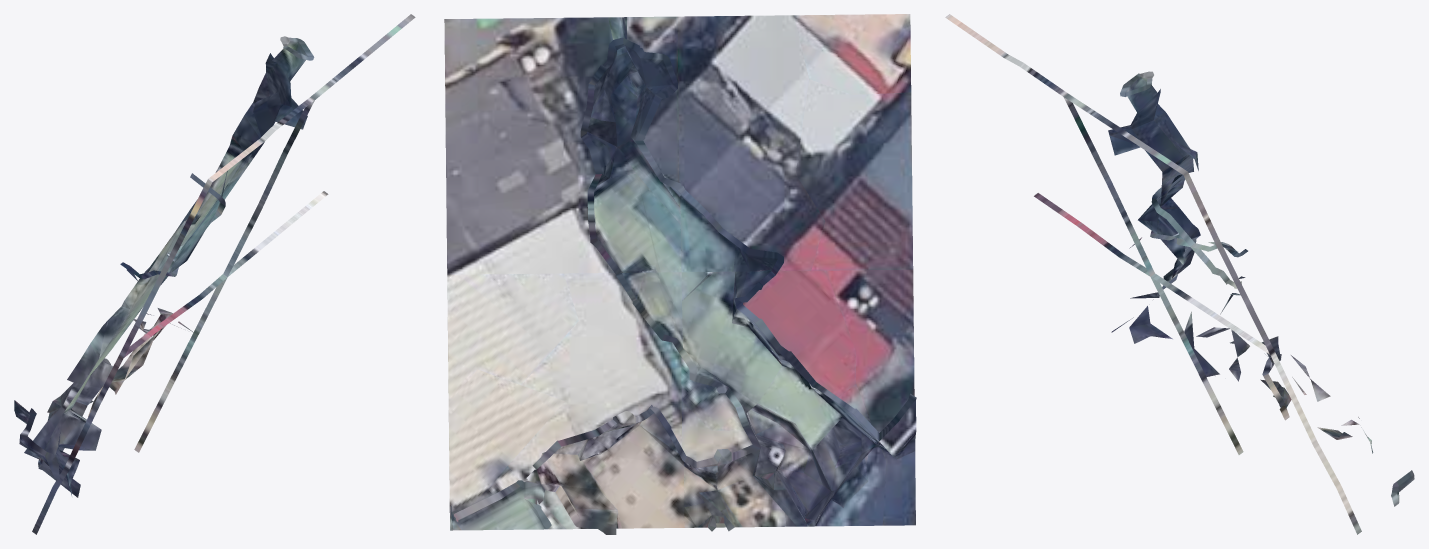
The picture shows the model from 3 angles, left to right: view 1: azimuth 30°, elevation 25°; view 2: azimuth 150°, elevation 25°; view 3: azimuth 270°, elevation 25°; orthographic projection. The views are drawn at different scales.
Bounding box in the file's own units: 38.72 × 37.22 × 36.41.
1 material, 1 textured.
